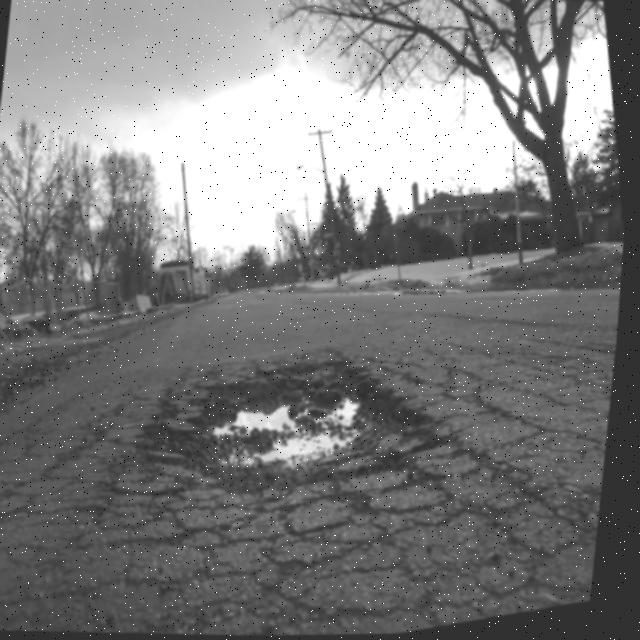Pothole: (162, 305, 487, 533)
